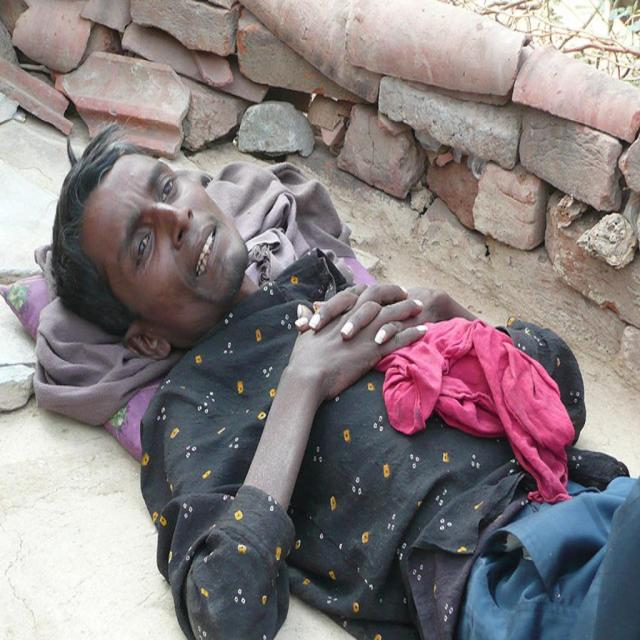Face: (89, 144, 259, 329)
